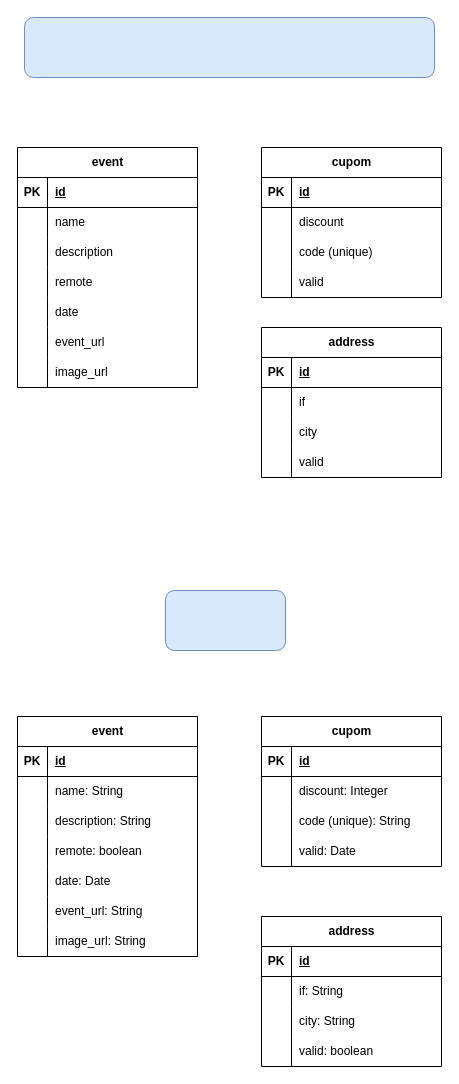
Image size: 459x1084. Some labels were removed from this diagram. Here are the shapes that lost their labels. From the top down, the centre of each, then its label:
pixel 229 47: Modelagem de Software
pixel 225 620: Types
